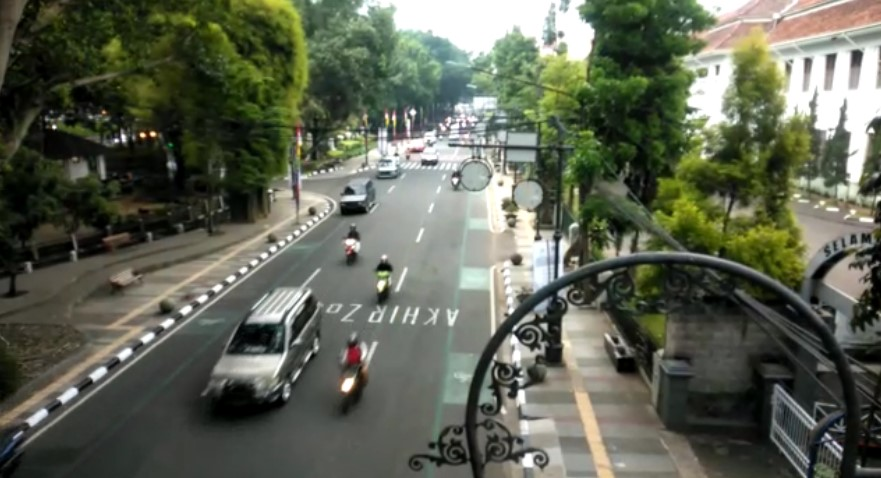mobil: (205, 285, 323, 415), (339, 179, 379, 211)
motor: (335, 336, 373, 406), (372, 253, 398, 299), (338, 225, 367, 263)
